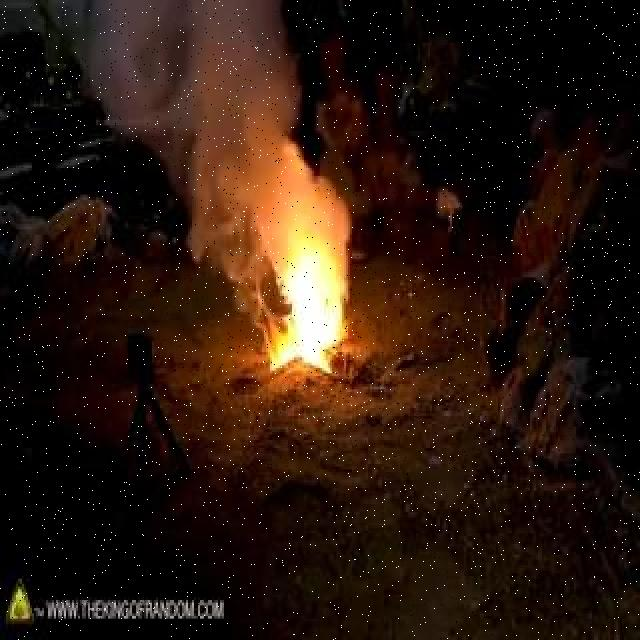fire: (267, 231, 350, 373)
smoke: (78, 4, 345, 228)
